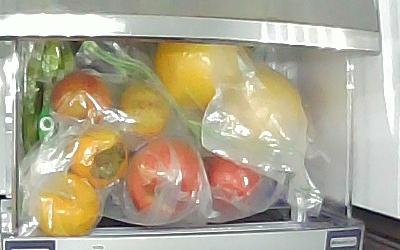apple_vinyl: (126, 138, 200, 221), (198, 156, 261, 215)
grapefruit_vinyl: (154, 43, 241, 113), (238, 67, 301, 134)
persimmon_vinyl: (36, 172, 101, 236), (64, 127, 127, 190)
prune_vinyl: (49, 70, 112, 124), (120, 84, 173, 140)
